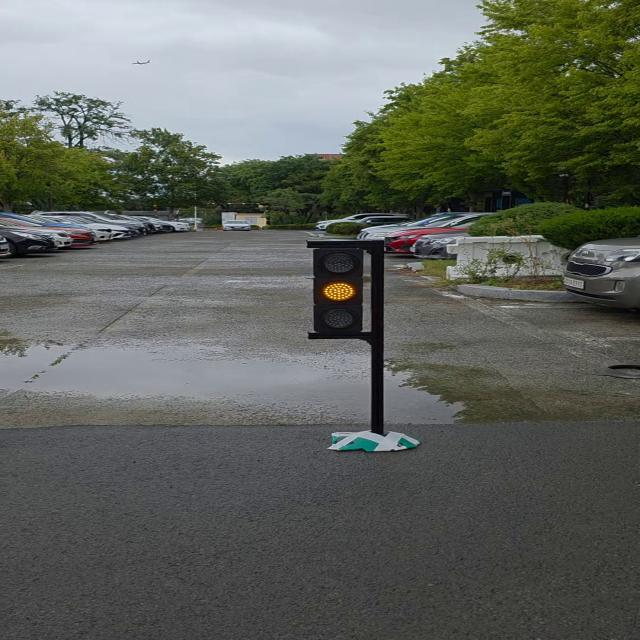yellow: (310, 240, 369, 335)
